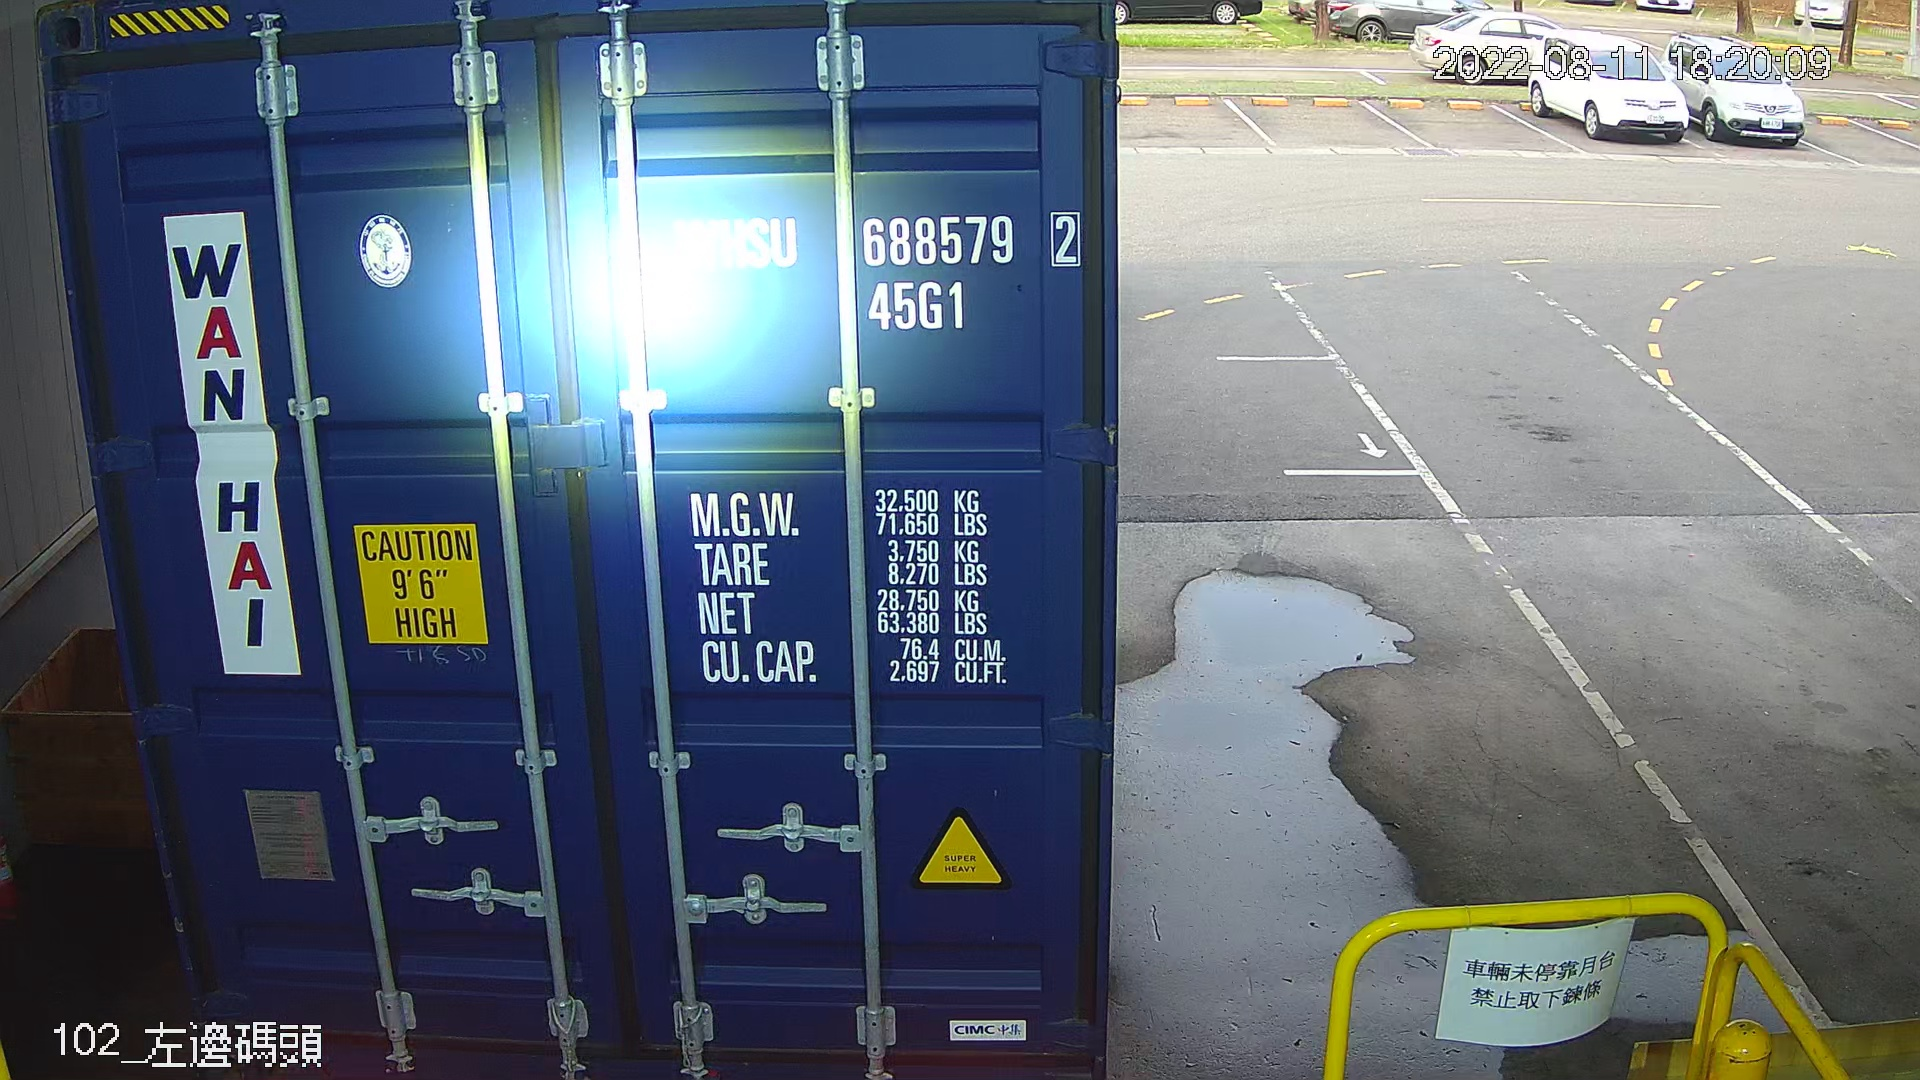container: (662, 198, 1095, 345)
